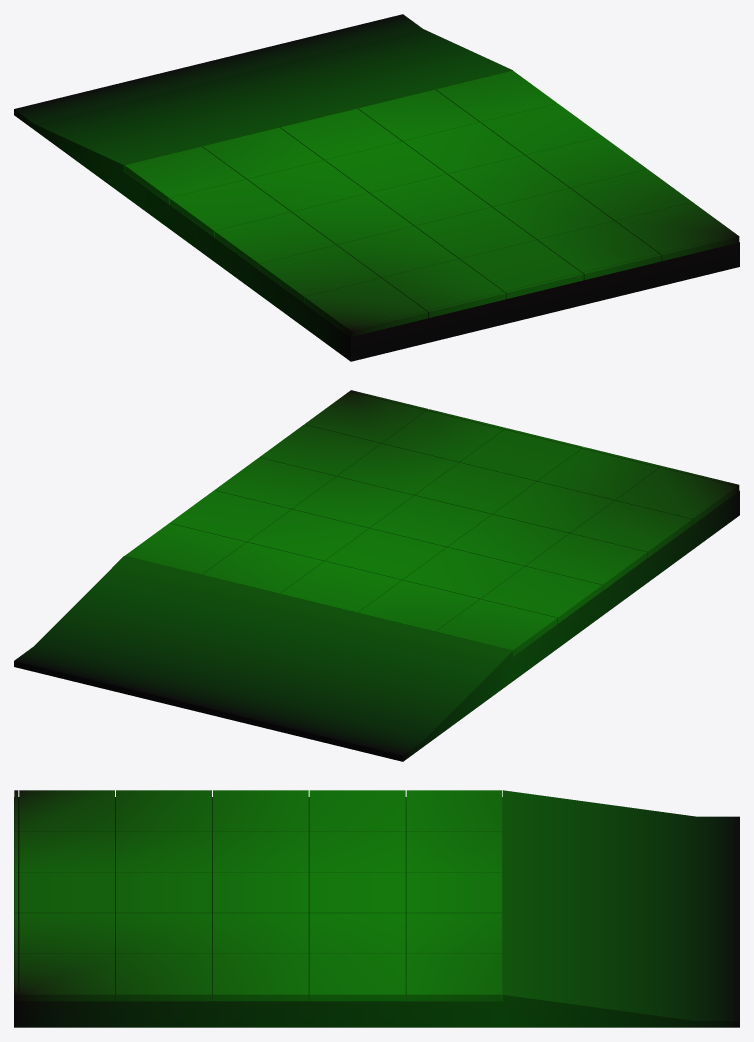
File: via_he_ram.glb
3 views of the same model, one above another, from view 1: azimuth 30°, elevation 25°; view 2: azimuth 150°, elevation 25°; view 3: azimuth 270°, elevation 25° (orthographic). The views are drawn at different scales.
Visible parts, largest first — view 1: via_he_ram; view 2: via_he_ram; view 3: via_he_ram.
Part boxes in pixels (x1=…): via_he_ram: x1=14, y1=14, x2=739, y2=361; via_he_ram: x1=14, y1=390, x2=739, y2=761; via_he_ram: x1=14, y1=790, x2=739, y2=1027.
Bounding box in the file's own units: 2 × 0.15 × 3.
